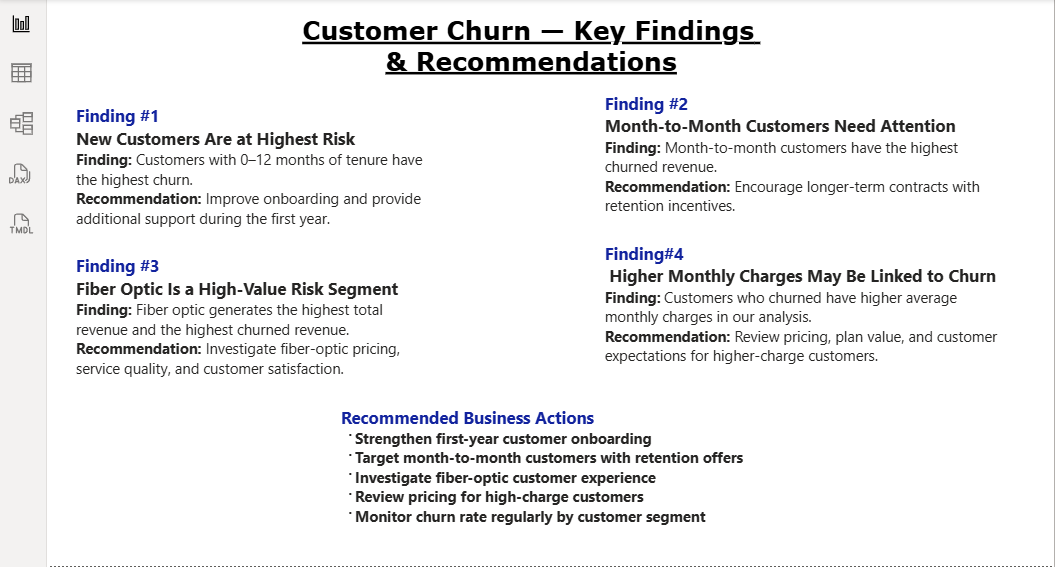

The page's visual inventory and layout, read from the dashboard file:
{"tool":"powerbi","page":{"name":"Recommedation","canvas":[1280,720],"ordinal":3},"visuals":[{"type":"textbox","box":[320,16,592,96],"z":0},{"type":"textbox","box":[32,128,464,176],"z":1000},{"type":"textbox","box":[704,112,512,176],"z":2000},{"type":"textbox","box":[32,320,432,176],"z":2001},{"type":"textbox","box":[704,304,528,192],"z":2002},{"type":"textbox","box":[368,512,544,192],"z":2003}]}

Visuals, with their boxes on the page's 1280x720 design canvas (x1, y1, x2, y2). These are canvas units, not pixel positions in the 1055x567 screenshot, which may show the page scaled, cropped or inside an application window:
textbox: [left=320, top=16, right=912, bottom=112]
textbox: [left=32, top=128, right=496, bottom=304]
textbox: [left=704, top=112, right=1216, bottom=288]
textbox: [left=32, top=320, right=464, bottom=496]
textbox: [left=704, top=304, right=1232, bottom=496]
textbox: [left=368, top=512, right=912, bottom=704]
